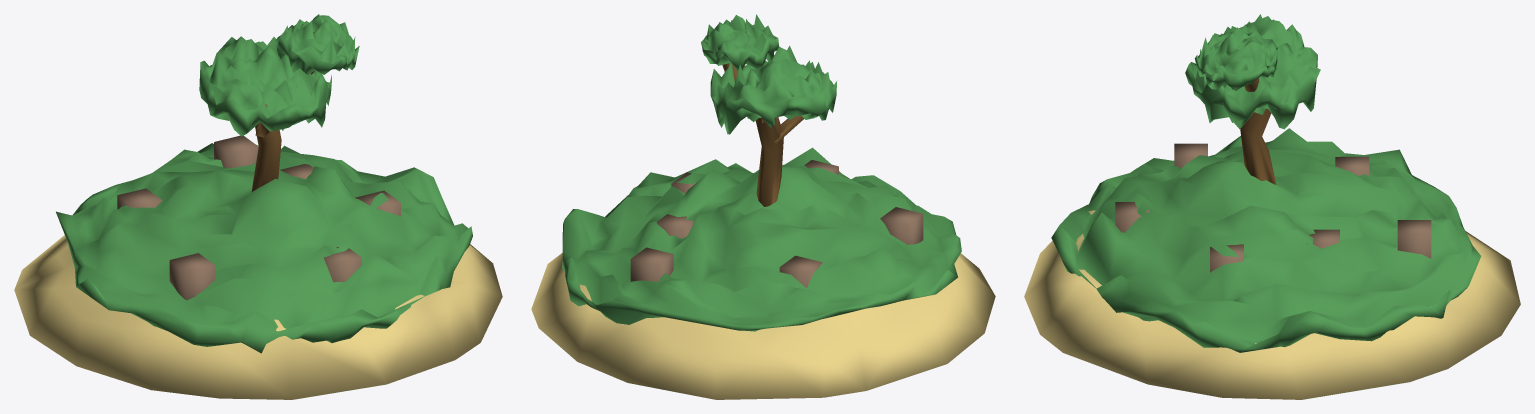
The model's file is IslandJungleLowPoly.fbx.
The picture shows the model from 3 angles, left to right: view 1: azimuth 30°, elevation 25°; view 2: azimuth 150°, elevation 25°; view 3: azimuth 270°, elevation 25°; orthographic projection. The views are drawn at different scales.
Visible parts, largest first — view 1: IslandJungleLowPoly; view 2: IslandJungleLowPoly; view 3: IslandJungleLowPoly.
Part boxes in pixels (x1,y1,x2,y2): IslandJungleLowPoly: (14, 14, 502, 399); IslandJungleLowPoly: (531, 14, 995, 399); IslandJungleLowPoly: (1024, 14, 1520, 399).
Size of the model in its own units: 308 by 310 by 195.
